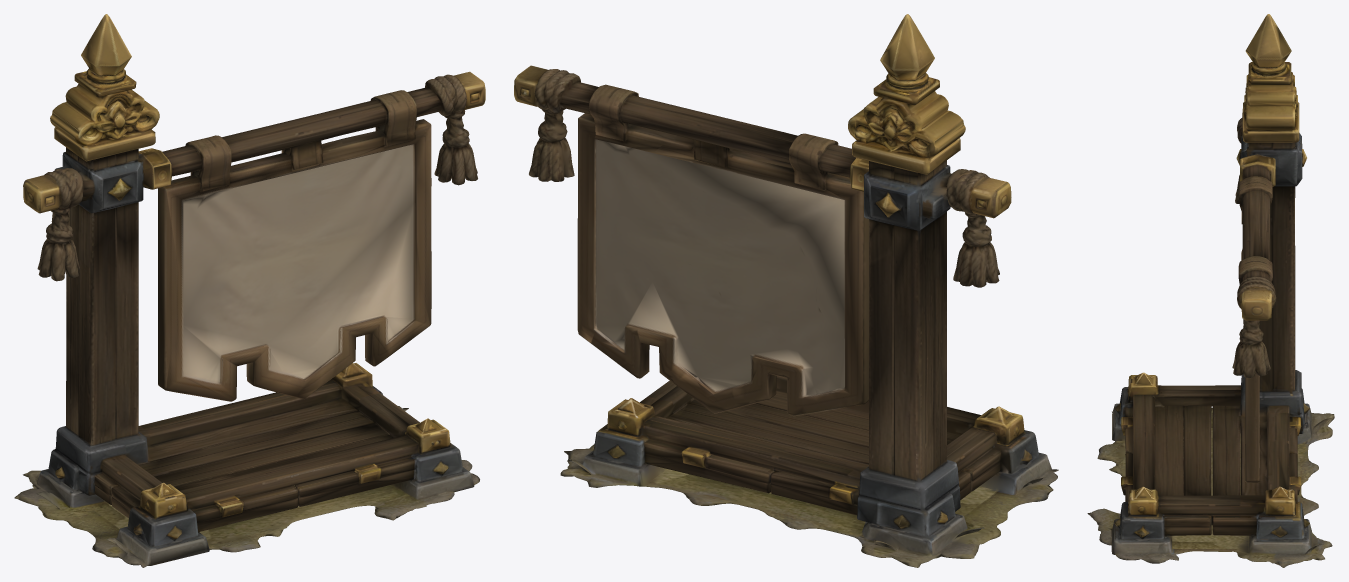
File: flag_pole.glb
3 views of the same model, side by side, from view 1: azimuth 30°, elevation 25°; view 2: azimuth 150°, elevation 25°; view 3: azimuth 270°, elevation 25° (orthographic). The views are drawn at different scales.
Parts seen in each view (by area): view 1: node_0; view 2: node_0; view 3: node_0.
Part boxes in pixels (box(x1,y1,x2,y2)): node_0: box(14, 14, 485, 567); node_0: box(514, 14, 1058, 567); node_0: box(1087, 14, 1334, 567).
Bounding box in the file's own units: 0.8278 × 0.8396 × 0.447.
1 material, 1 textured.
